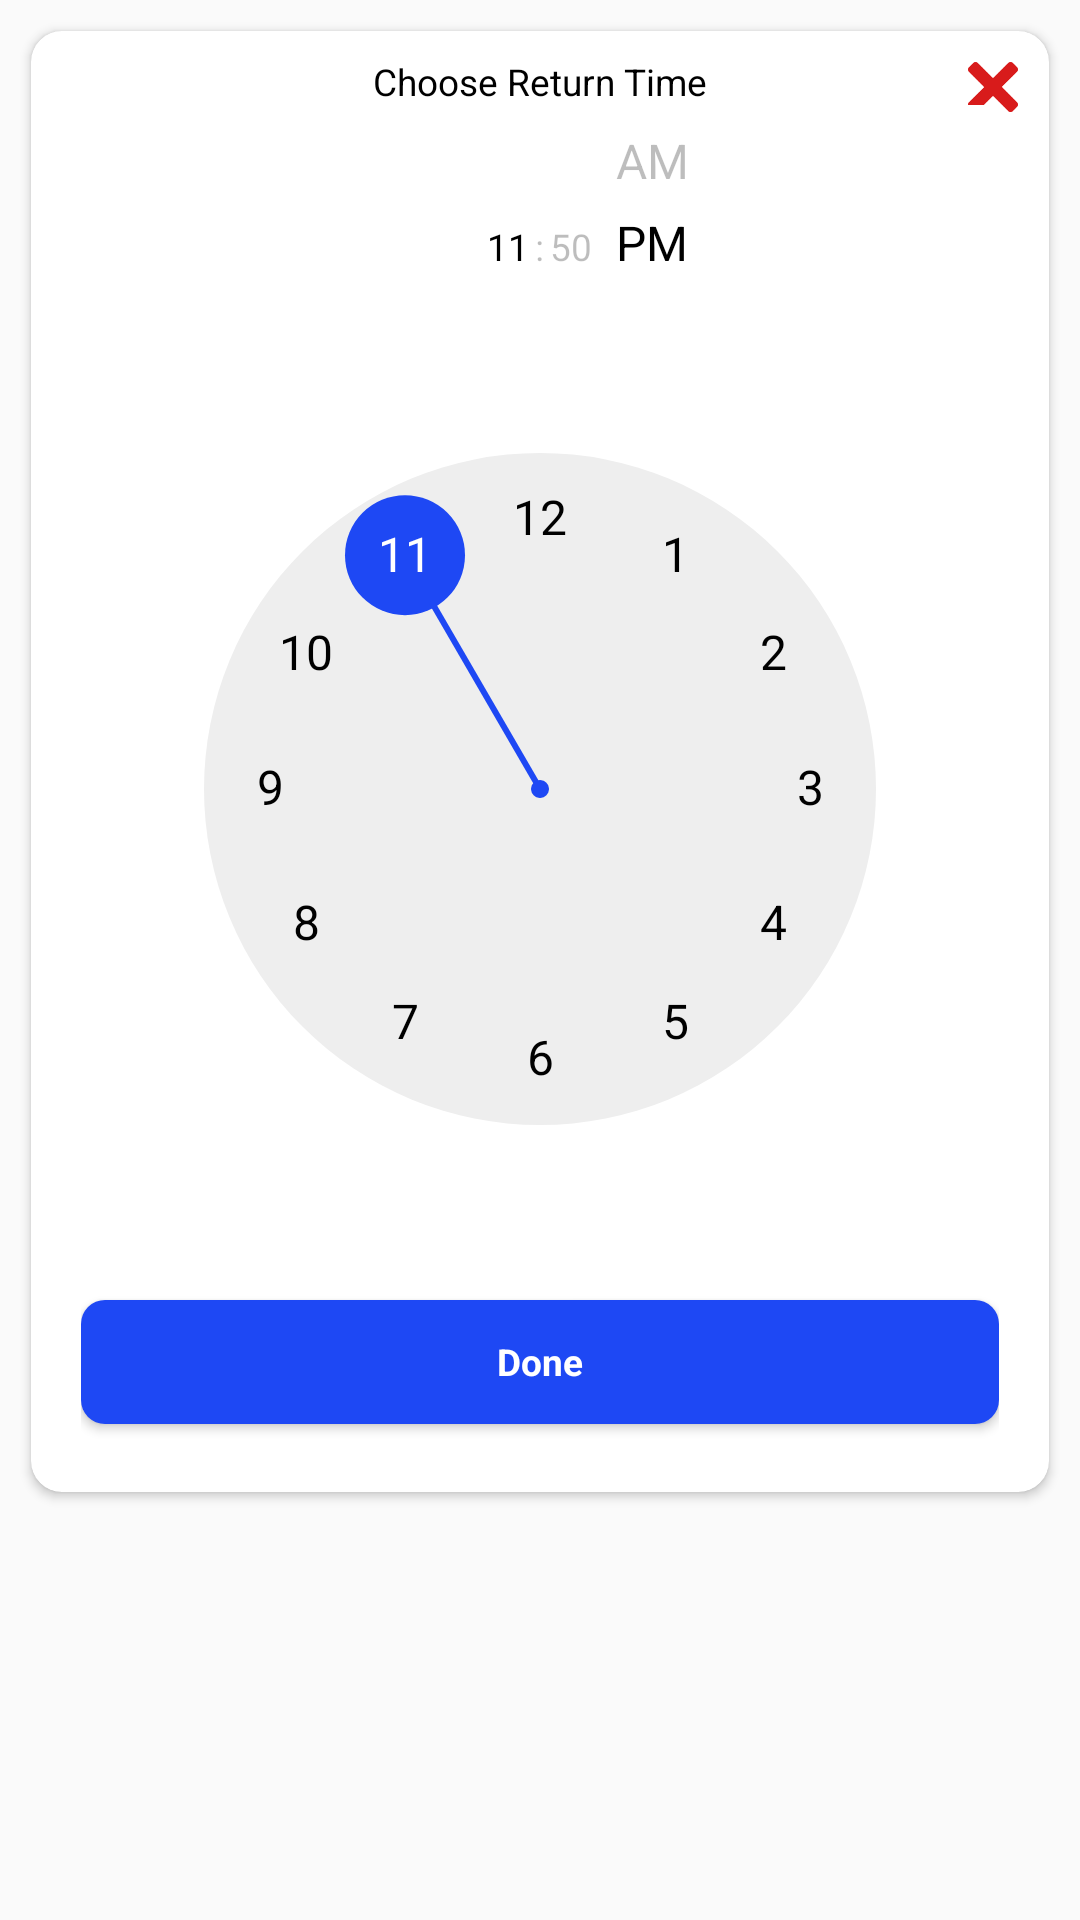

Where to tap for icons on this 1080w x 1920h app screen, as (x=x, y=y):
close: (x=993, y=87)
